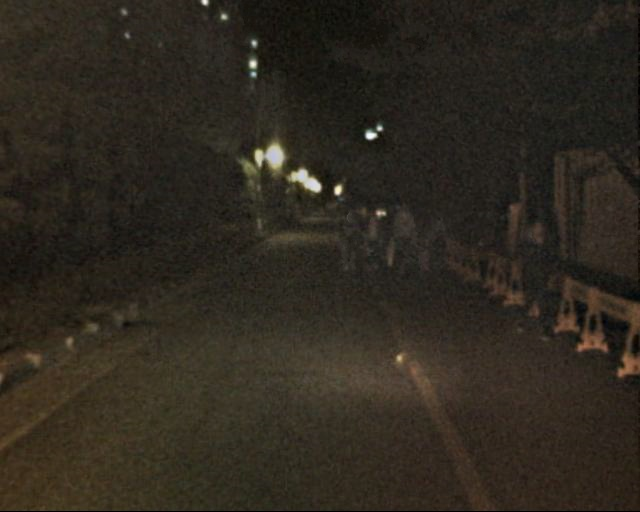person: (506, 226, 553, 340), (386, 201, 417, 277), (335, 211, 363, 279), (356, 212, 382, 276), (428, 210, 453, 272), (413, 220, 436, 275), (376, 217, 396, 266)
